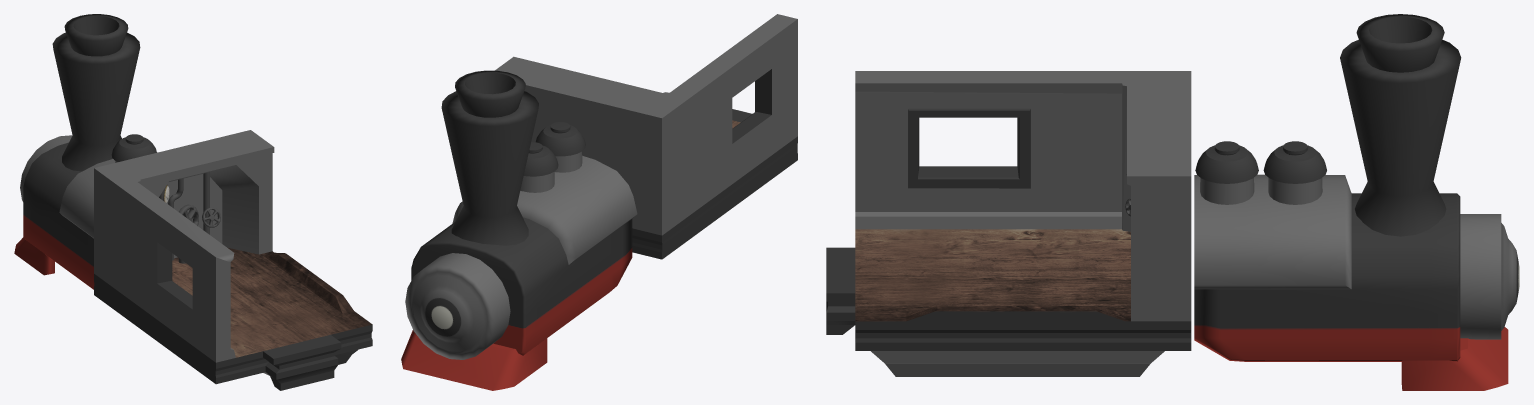
File: TrainFront.fbx
3 views of the same model, side by side, from view 1: azimuth 30°, elevation 25°; view 2: azimuth 150°, elevation 25°; view 3: azimuth 270°, elevation 25° (orthographic). The views are drawn at different scales.
Visible parts, largest first — view 1: polySurface77; view 2: polySurface77; view 3: polySurface77.
Boxes of the visible parts, left/top/right/bottom form: polySurface77: left=14, top=14, right=372, bottom=390; polySurface77: left=401, top=14, right=797, bottom=390; polySurface77: left=826, top=14, right=1519, bottom=390.
Size of the model in its own units: 6.24 by 9.05 by 17.33.
